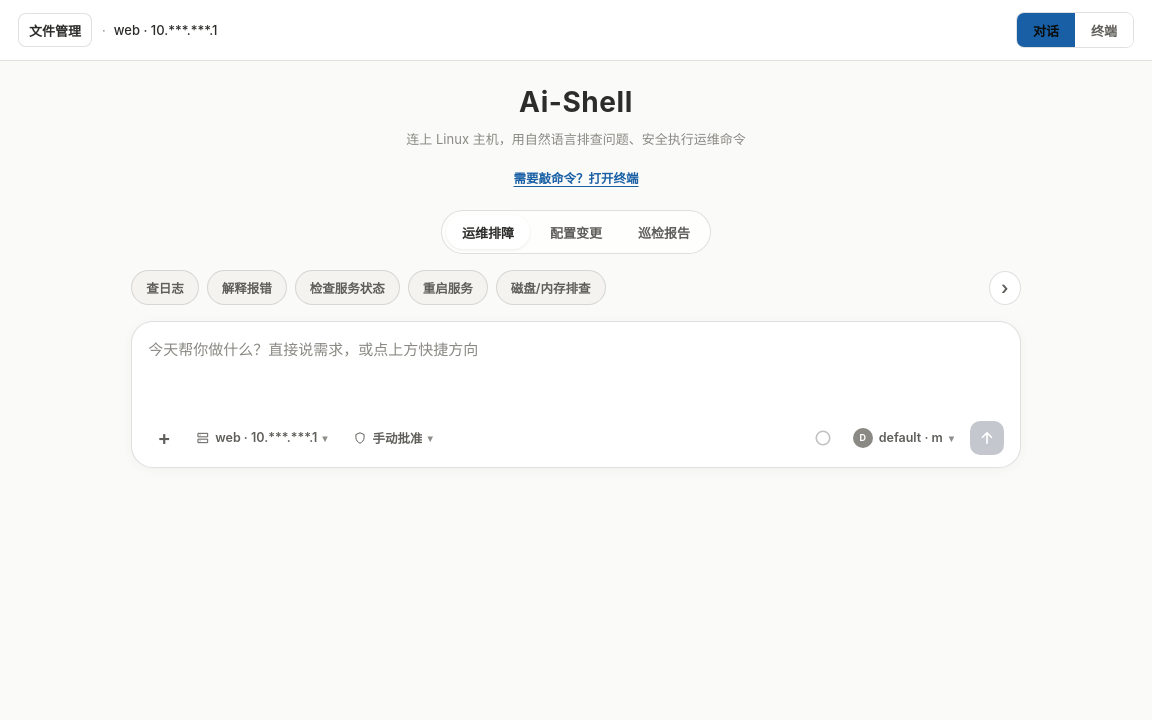
Test: ConsolePanel 空状态与主机选择 › 终端切「对话」只换视图、不新建任务
The width and height of the screenshot is (1152, 720).
Click the button with class "home-term-link": (576, 177) [514,160,638,194]
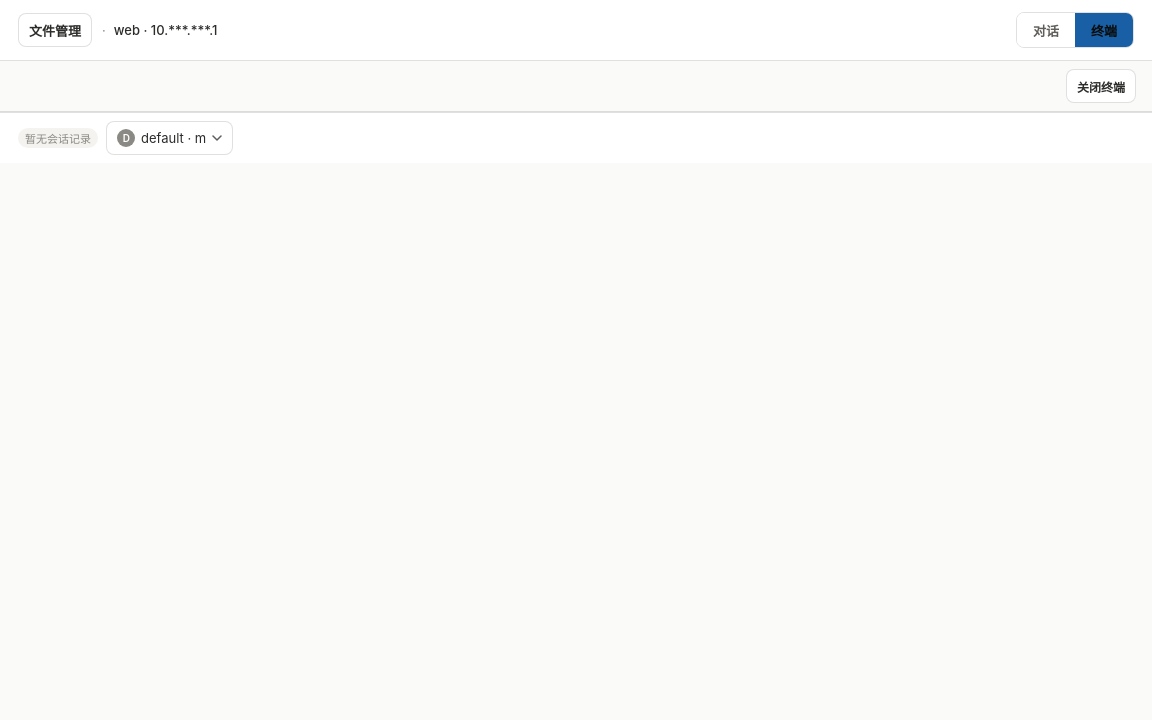
Click the button "对话": (1046, 30) [1017,13,1075,47]
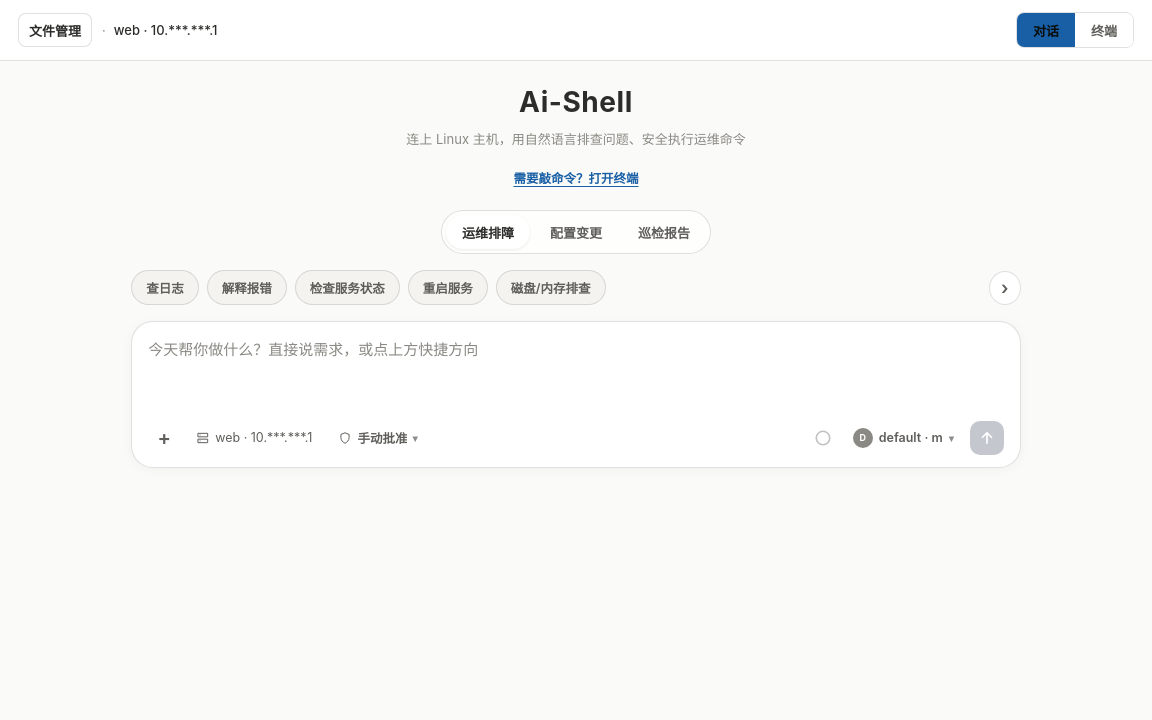
Expected: the header with class "bar" is shown, [0,0,1151,61]
Result: the element with class "chat" is shown
